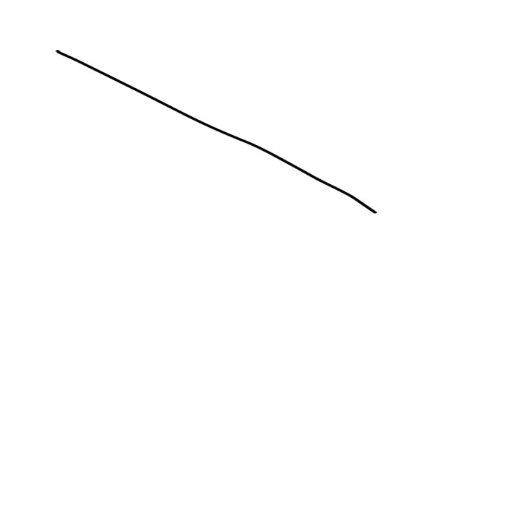line: (53, 42, 390, 226)
